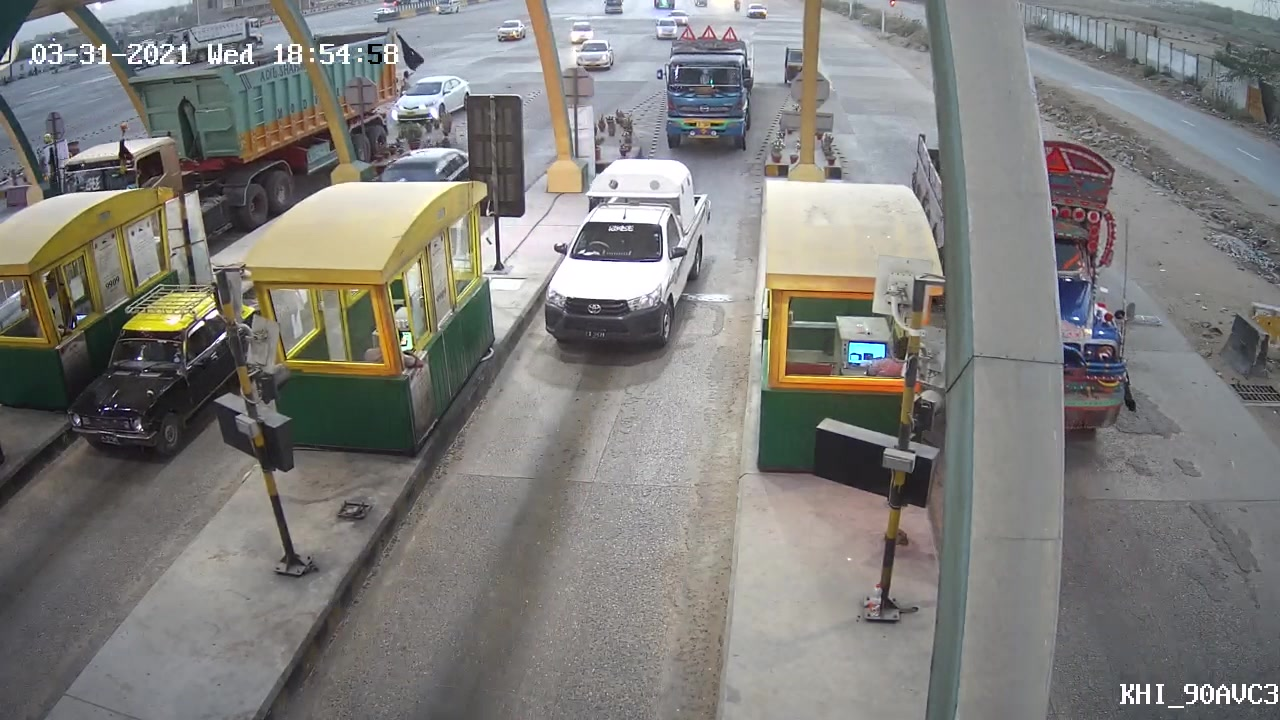F2: (536, 160, 711, 350)
